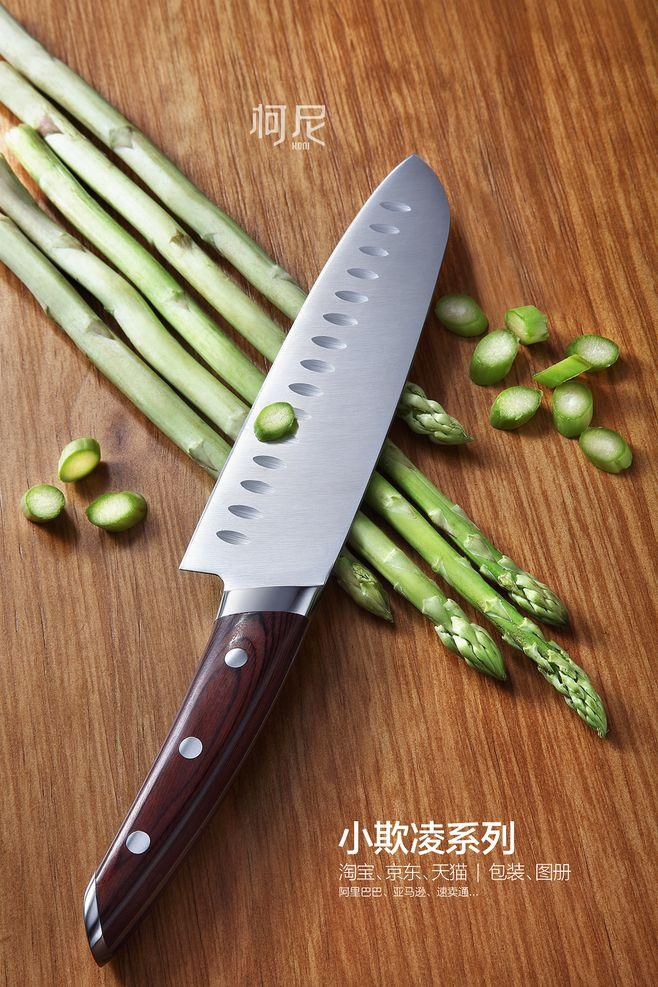knife: (91, 94, 514, 951)
